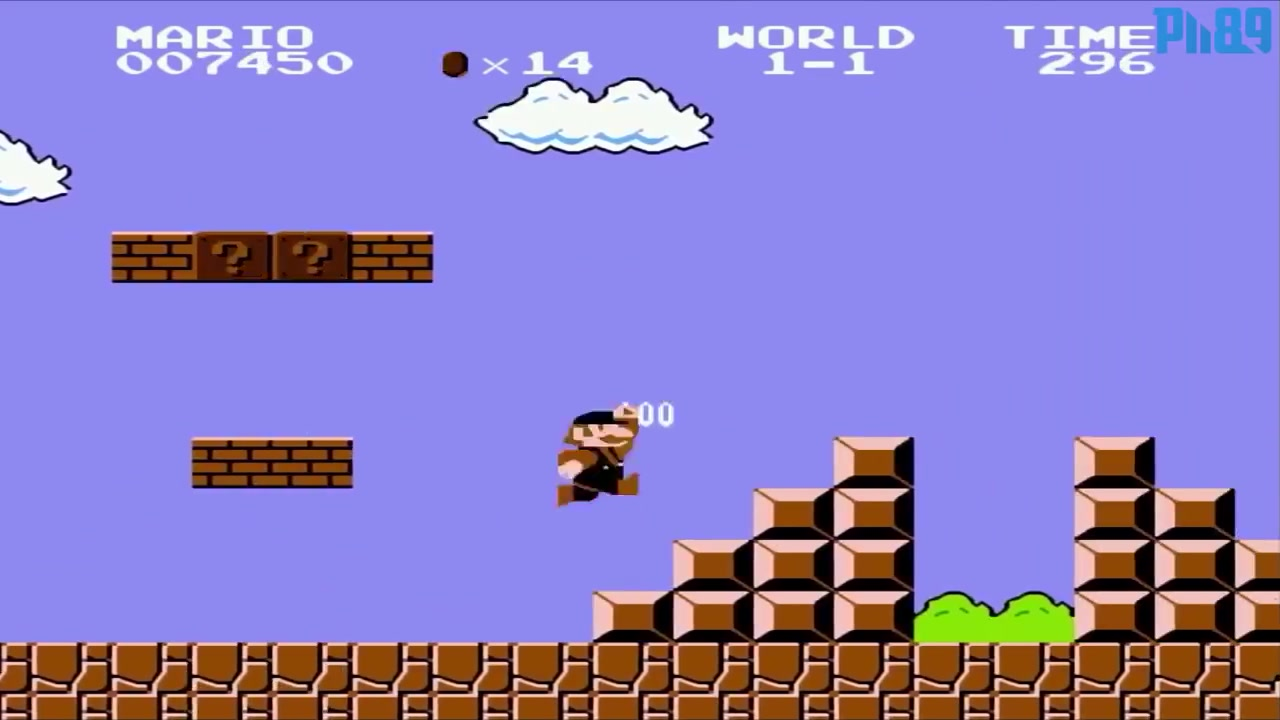mario: (549, 386, 646, 518)
